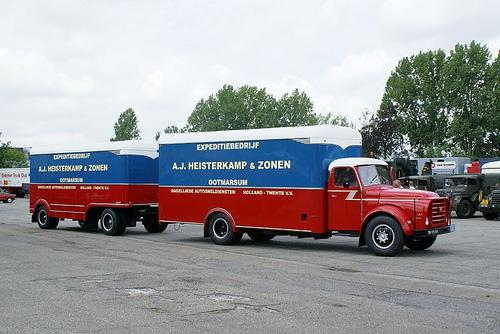truck: (29, 124, 455, 258)
